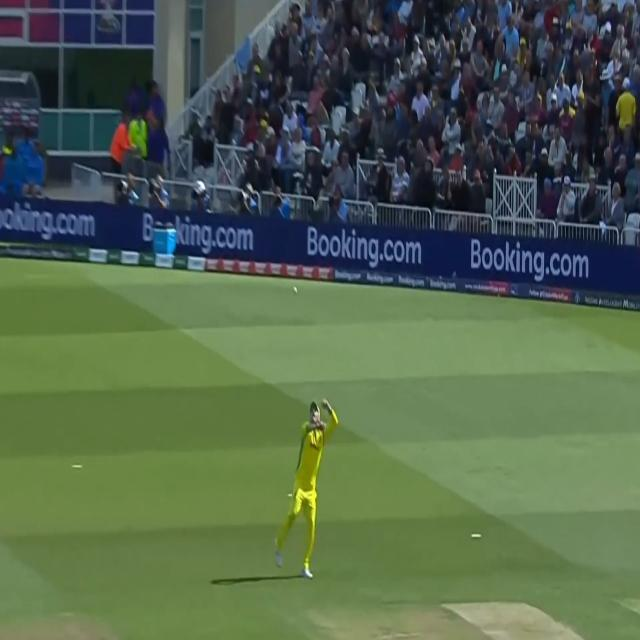ball: (290, 280, 300, 299)
